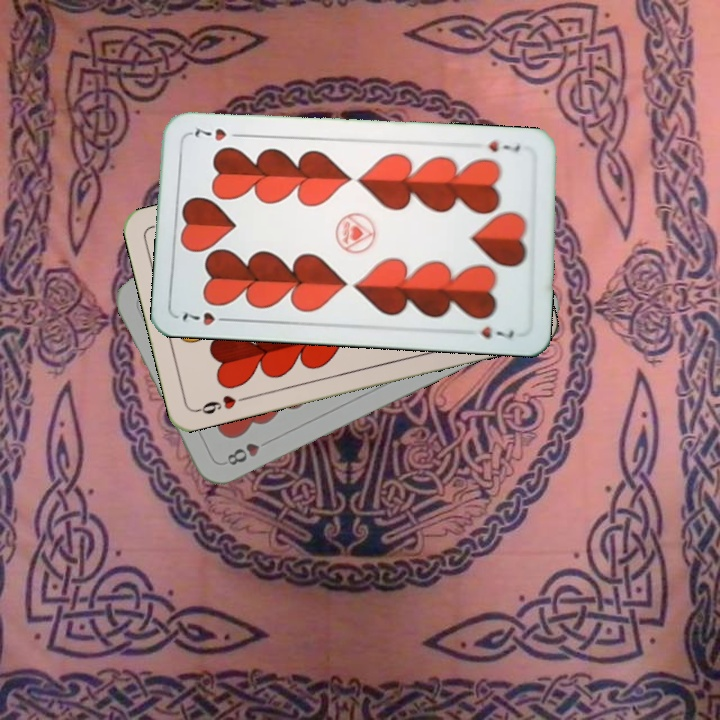H7: (178, 308, 235, 328), (484, 135, 523, 155)
H8: (223, 438, 263, 468)
H9: (192, 391, 251, 417)
